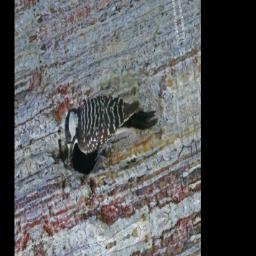Woodpecker: (60, 62, 159, 174)
